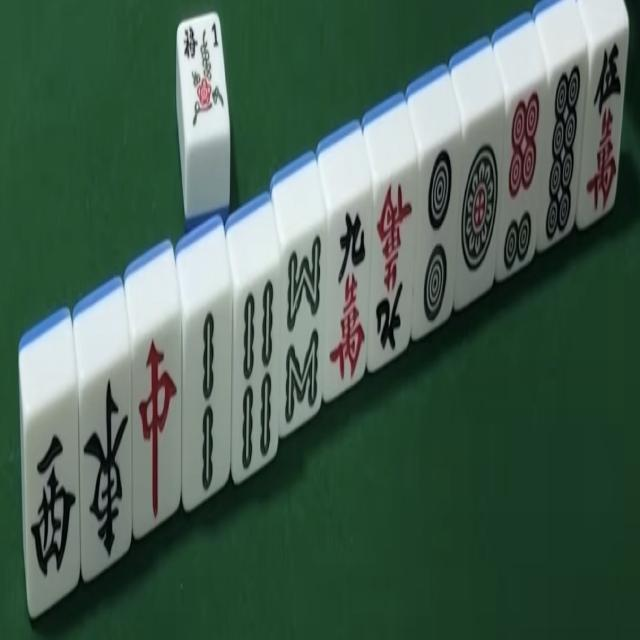east: (80, 350, 130, 572)
f1: (179, 15, 228, 140)
m5: (586, 22, 626, 222)
m9: (369, 156, 416, 374), (325, 188, 368, 396)
s2: (190, 299, 228, 490)
s4: (237, 266, 280, 467)
s8: (284, 218, 323, 420)
t1: (459, 110, 502, 301)
t2: (418, 134, 456, 337)
t6: (503, 79, 542, 295)
t8: (544, 50, 584, 253)
west: (27, 388, 77, 595)
zhong: (133, 304, 177, 529)
